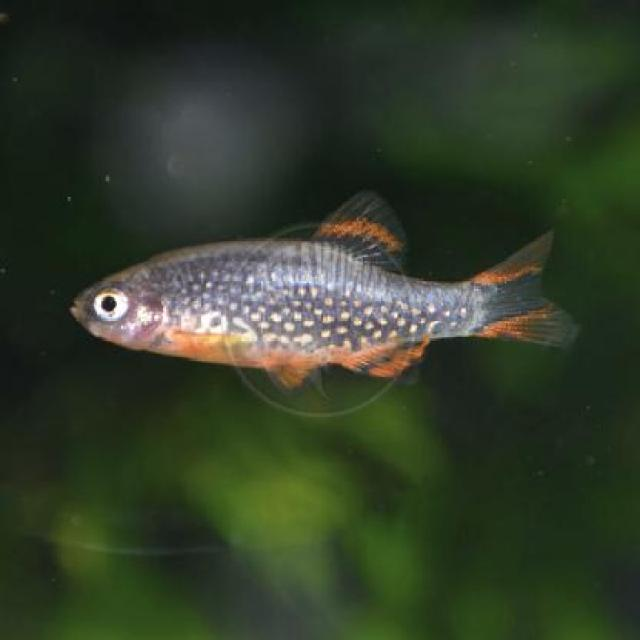ZebraFish: (70, 199, 552, 376)
